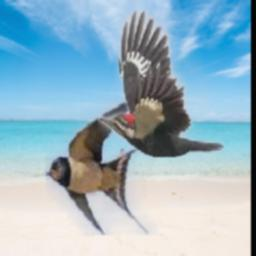Swallow: (46, 95, 158, 235)
Woodpecker: (99, 10, 224, 157)
